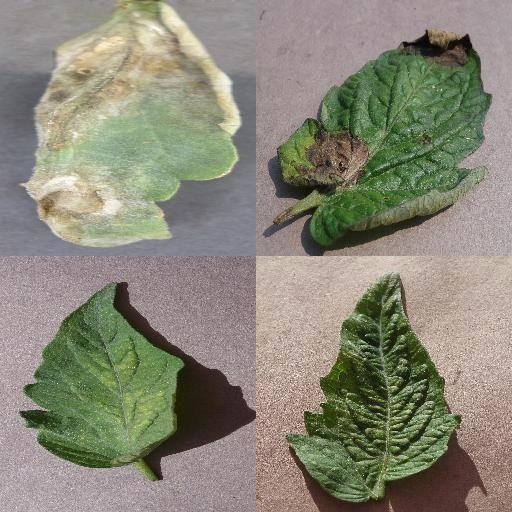Late Blight: (20, 0, 243, 248), (277, 29, 493, 247)
Spider Mites: (287, 271, 461, 503), (20, 281, 186, 471)
